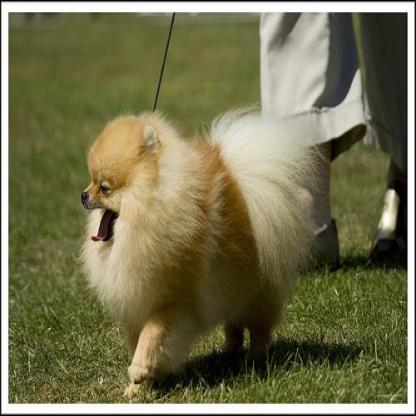Pomeranian: (76, 99, 330, 388)
